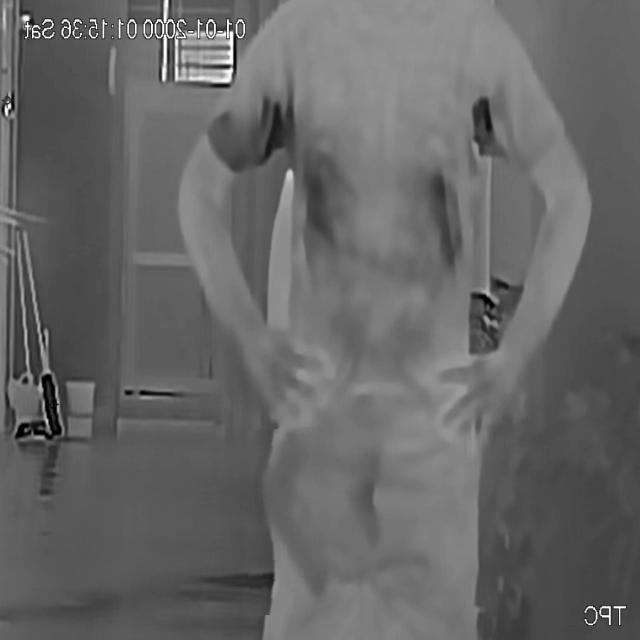Weapon: (244, 427, 338, 615)
